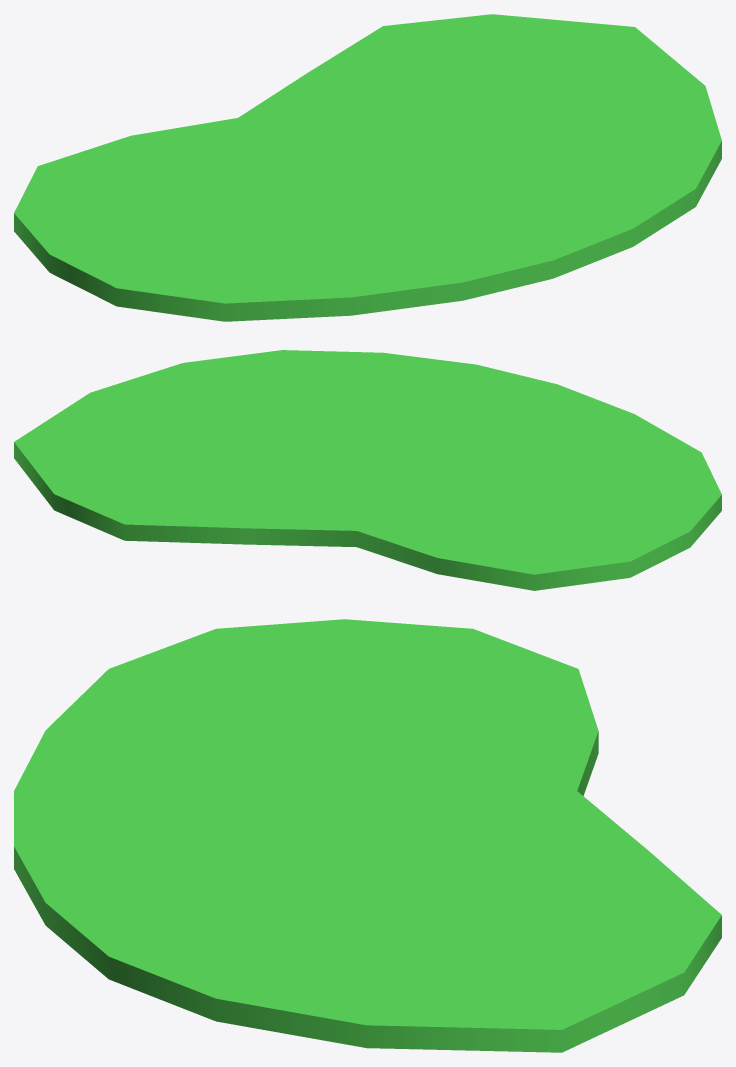
Rendered from pond.obj.
3 renders of one model, top to bottom at view 1: azimuth 30°, elevation 25°; view 2: azimuth 150°, elevation 25°; view 3: azimuth 270°, elevation 25°, orthographic. The views are drawn at different scales.
Visible parts, largest first — view 1: Cylinder001; view 2: Cylinder001; view 3: Cylinder001.
Part boxes in pixels (x1,y1,x2,y2): Cylinder001: [14, 14, 721, 321]; Cylinder001: [14, 350, 721, 590]; Cylinder001: [14, 619, 721, 1052].
Size of the model in its own units: 85.92 by 2.23 by 62.59.
